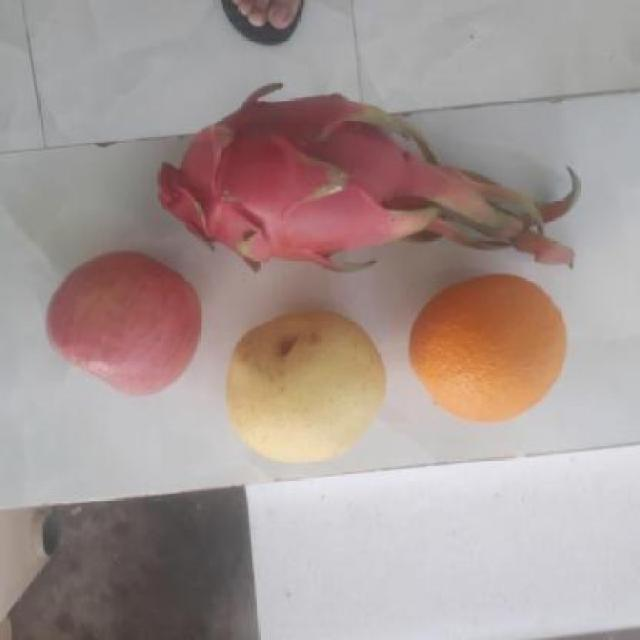apple: (41, 252, 201, 396)
dragon fruit: (140, 107, 448, 271)
oren: (404, 276, 571, 427)
pear: (217, 308, 392, 464)
